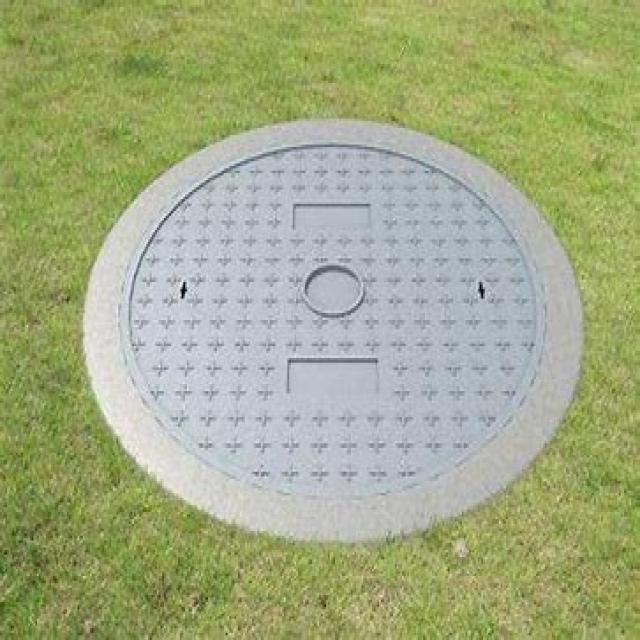manhole: (85, 120, 581, 541)
